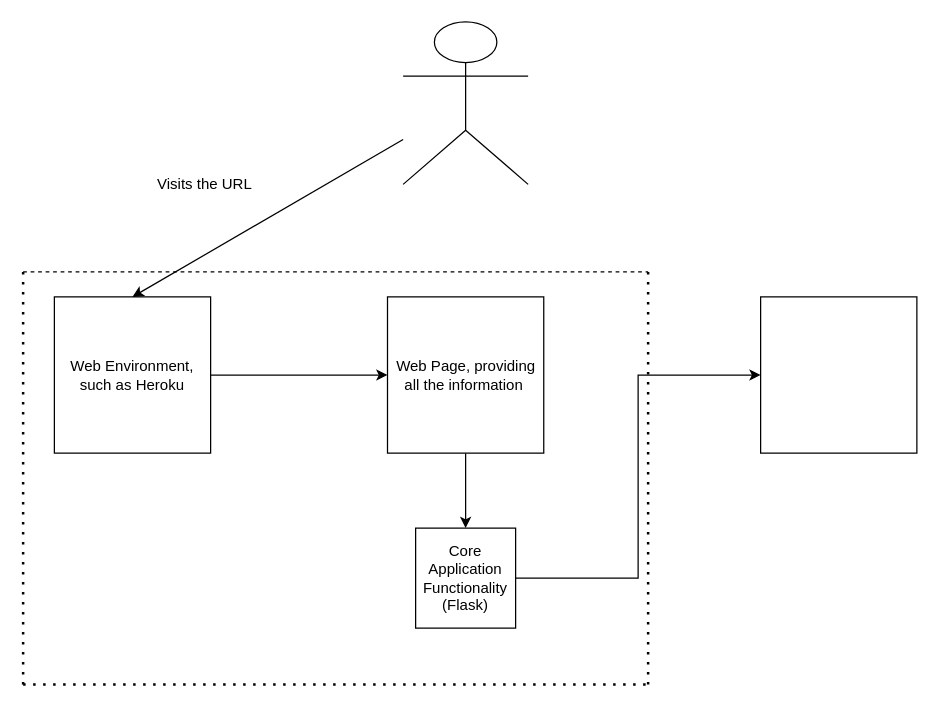
This 939x709 diagram has some shape labels left out. The shapes that lost their labels are listed below. From the top down, each one's box as (x1, y1, x2, y2) in pixels, then its label:
(402, 21, 528, 184): User - a user of the system who needs to track real world tasks
(759, 296, 917, 453): ToDo list (Trello Lists)
